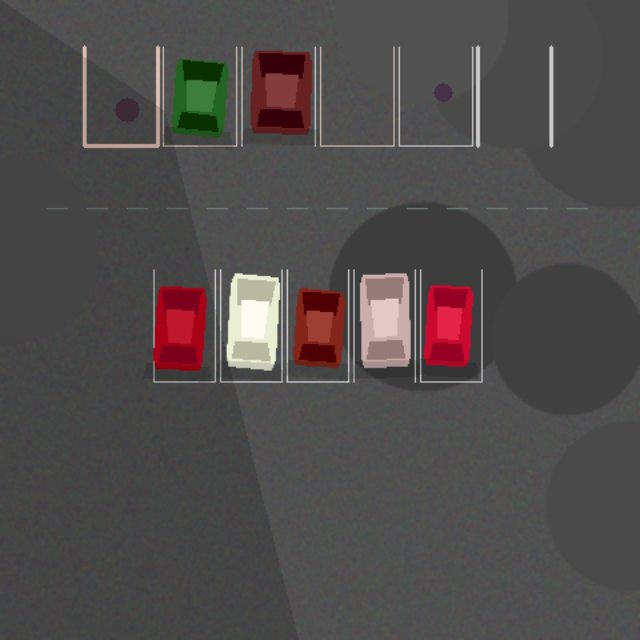space-empty: (477, 47, 551, 145), (84, 47, 157, 145), (320, 47, 393, 145), (399, 47, 472, 145)
space-occupied: (241, 47, 315, 145), (163, 47, 236, 145), (153, 269, 215, 381), (353, 269, 415, 381), (220, 269, 281, 381), (287, 269, 348, 381), (420, 269, 481, 381)
